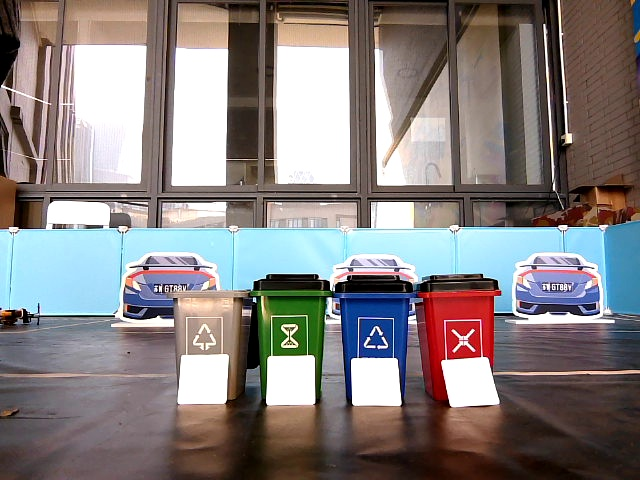blue_close: (340, 274, 406, 355)
green_close: (258, 274, 322, 352)
grey_open: (175, 290, 244, 353)
red_close: (421, 275, 493, 356)
